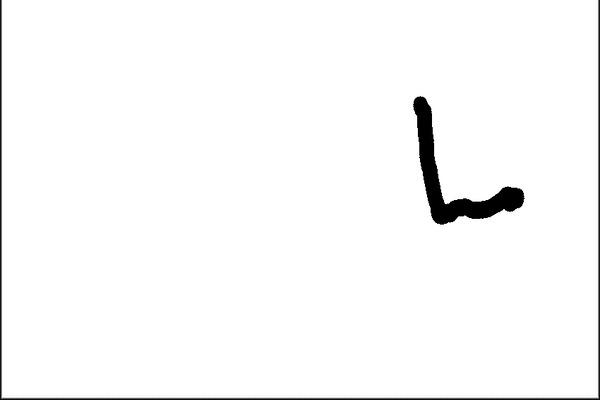L: (401, 86, 529, 228)
